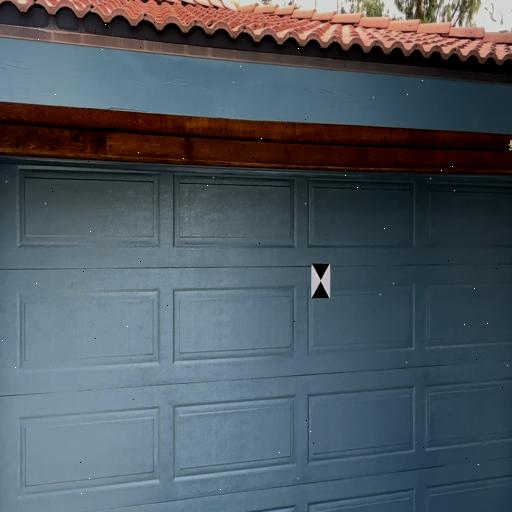target: (312, 262, 330, 298)
